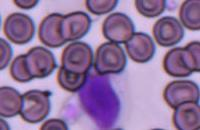L: (70, 72, 134, 130)
